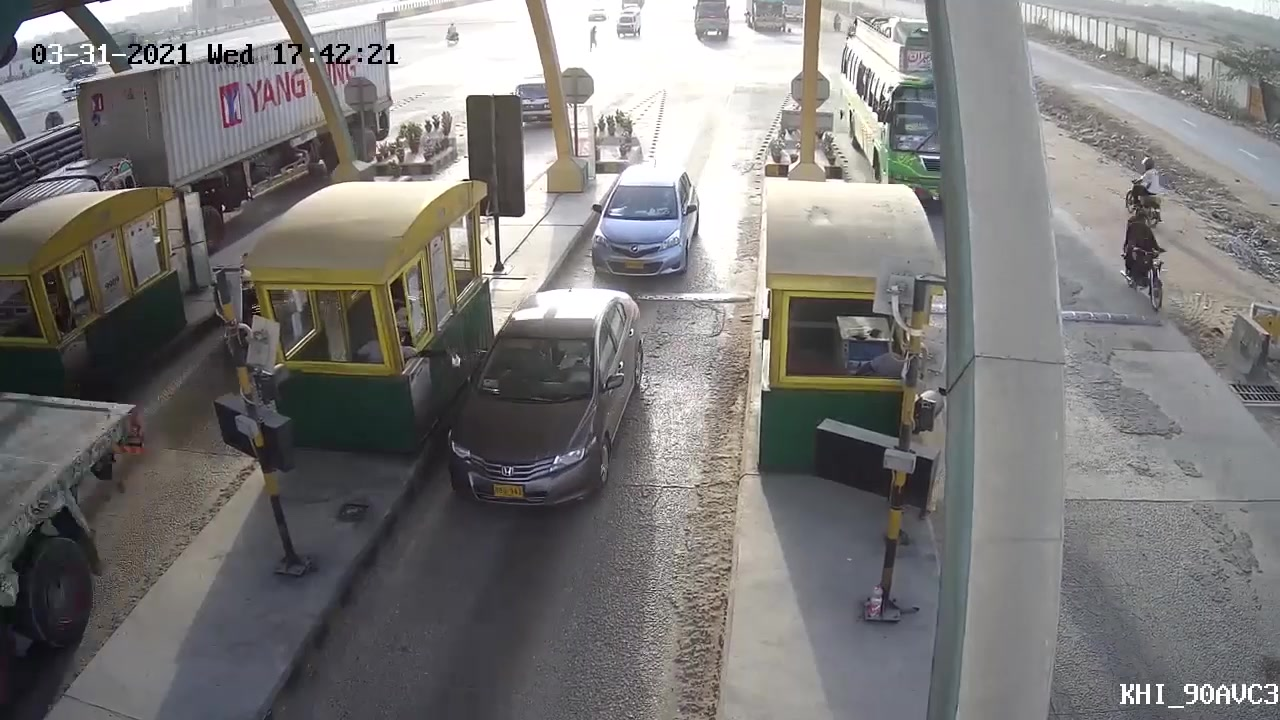F1: (435, 287, 652, 561), (590, 162, 696, 277)
